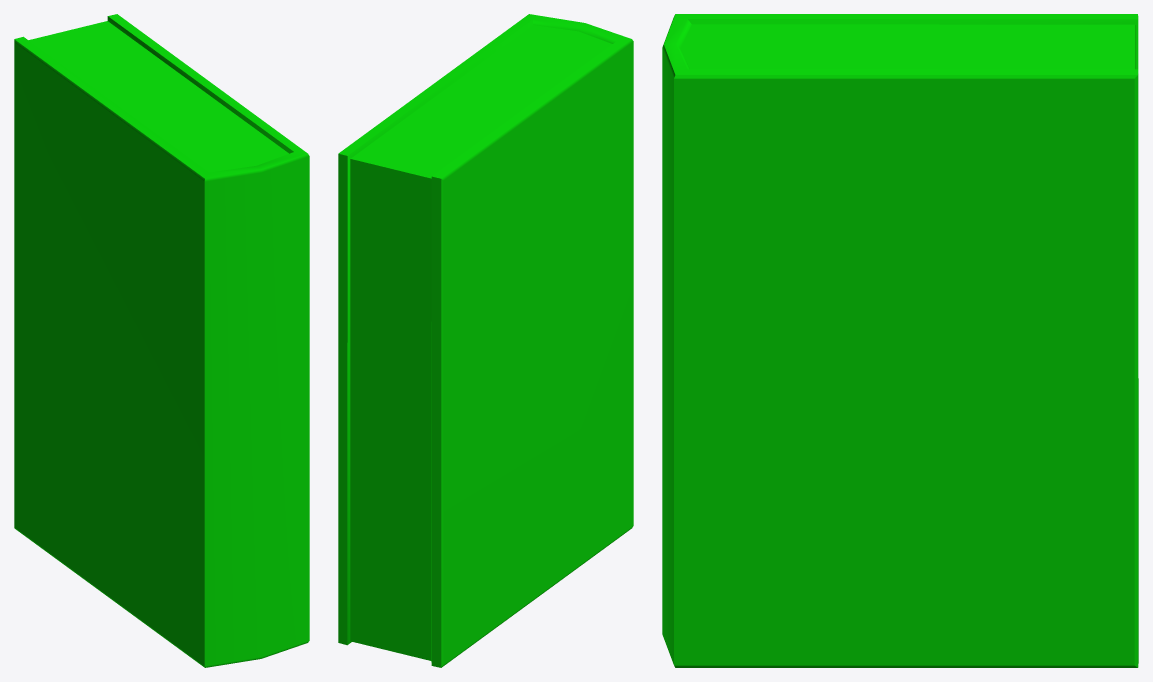
File: LibroSmall01.fbx
The picture shows the model from 3 angles, left to right: view 1: azimuth 30°, elevation 25°; view 2: azimuth 150°, elevation 25°; view 3: azimuth 270°, elevation 25°; orthographic projection. The views are drawn at different scales.
Visible parts, largest first — view 1: pCube263; view 2: pCube263; view 3: pCube263.
Boxes of the visible parts, x1,y1,x2,y2 form: pCube263: (14,14,309,667); pCube263: (338,14,633,667); pCube263: (662,14,1138,667).
Bounding box in the file's own units: 0.05 × 0.2226 × 0.1617.
